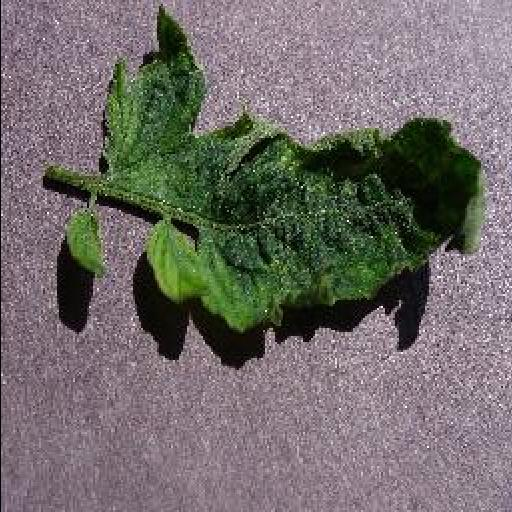Mosaic Virus: (100, 2, 486, 338)
